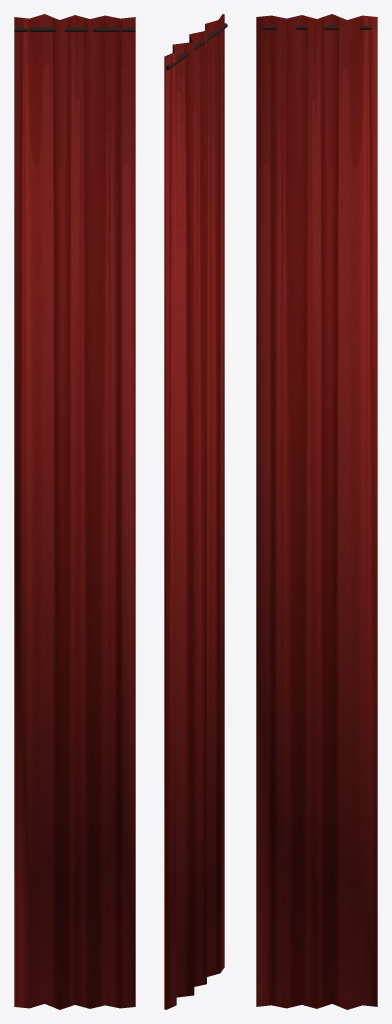
File: curtain_m2.fbx
The picture shows the model from 3 angles, left to right: view 1: azimuth 90°, elevation 25°; view 2: azimuth 150°, elevation 25°; view 3: azimuth 270°, elevation 25°; orthographic projection. The views are drawn at different scales.
Parts seen in each view (by area): view 1: Curtain; view 2: Curtain; view 3: Curtain.
Part boxes in pixels (x1,y1,x2,y2): Curtain: (14,14,135,1009); Curtain: (164,14,227,1009); Curtain: (256,14,377,1009).
Size of the model in its own units: 1 by 0.14 by 9.
